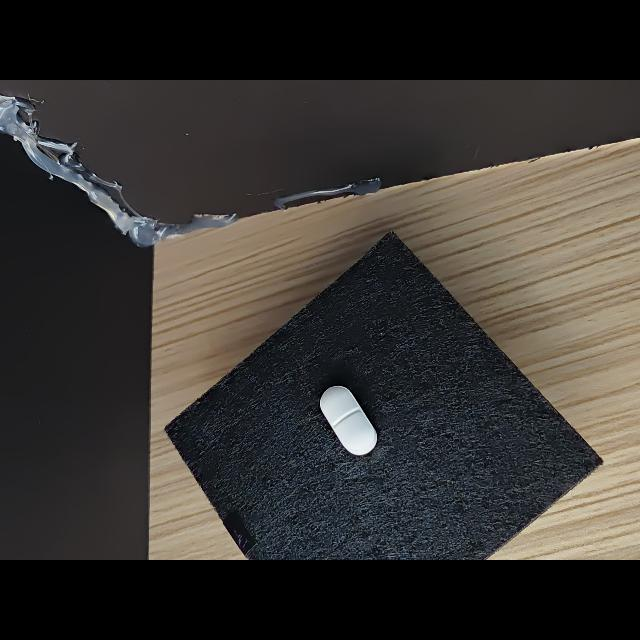Intact Pill: (320, 386, 377, 455)
